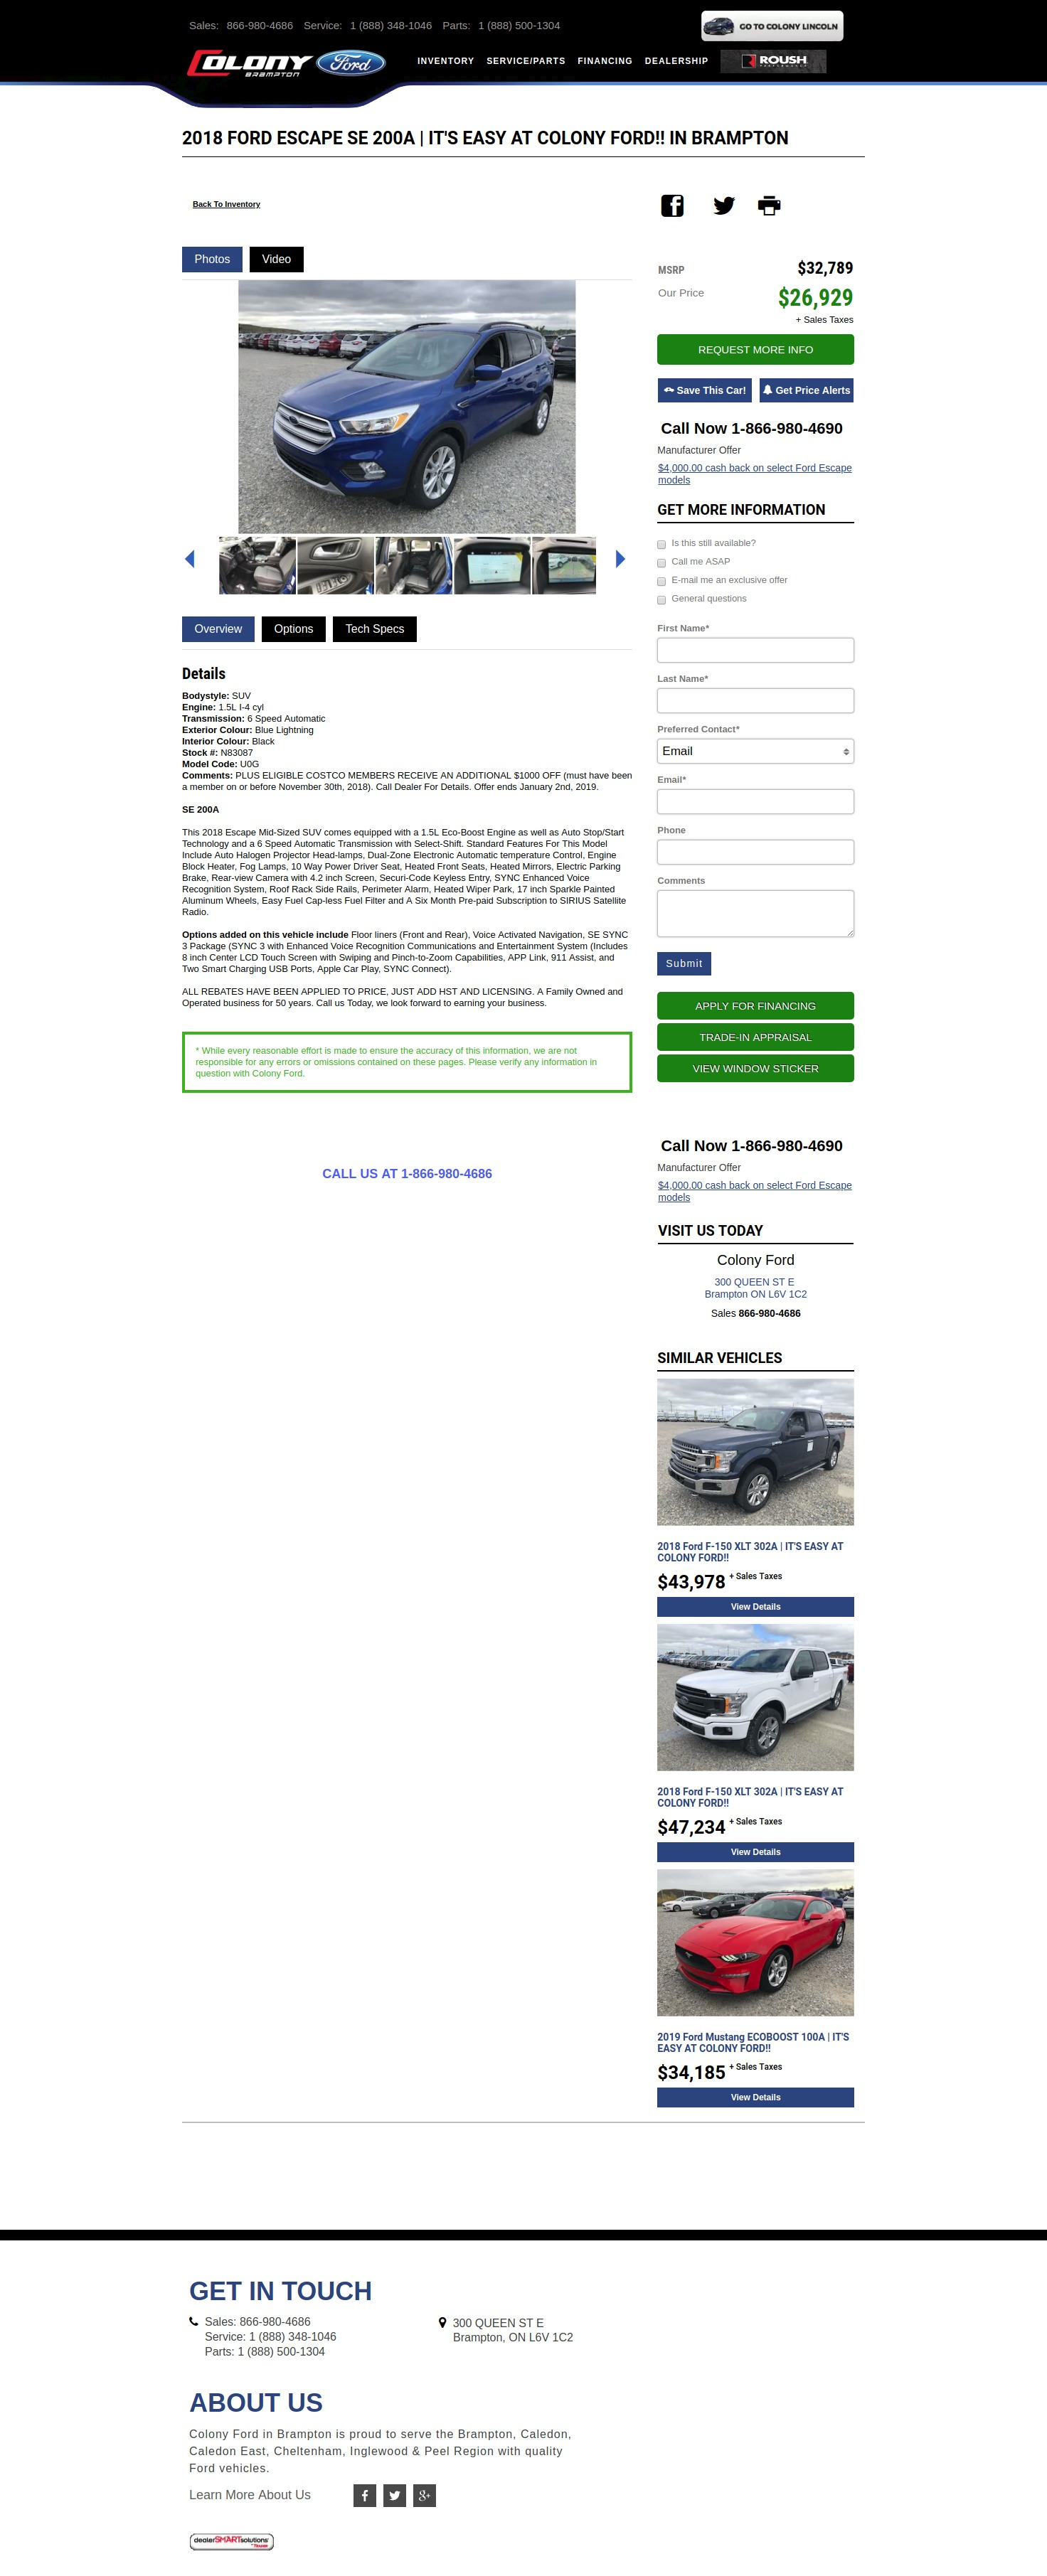car: (615, 550, 626, 570)
